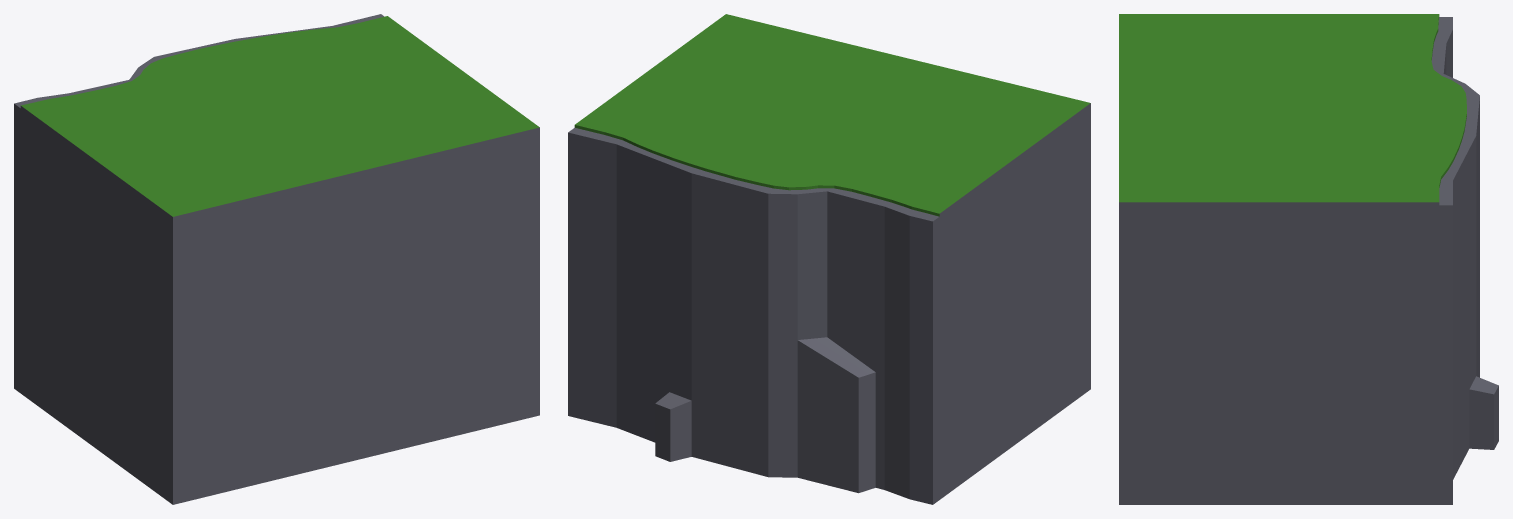
The model's file is Side1v2.fbx.
3 renders of one model, left to right at view 1: azimuth 30°, elevation 25°; view 2: azimuth 150°, elevation 25°; view 3: azimuth 270°, elevation 25°, orthographic. The views are drawn at different scales.
Parts seen in each view (by area): view 1: Plane.002; view 2: Plane.002; view 3: Plane.002.
Part boxes in pixels (box(x1,y1,x2,y2)): Plane.002: box(14, 14, 539, 504); Plane.002: box(568, 14, 1090, 504); Plane.002: box(1119, 14, 1498, 504).
Bounding box in the file's own units: 100 × 75 × 85.29.
